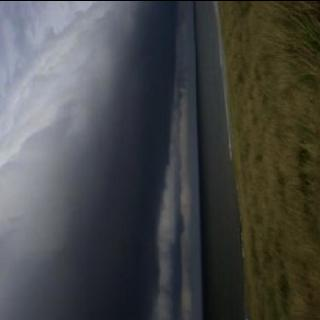Cumulus: (0, 0, 187, 320)
